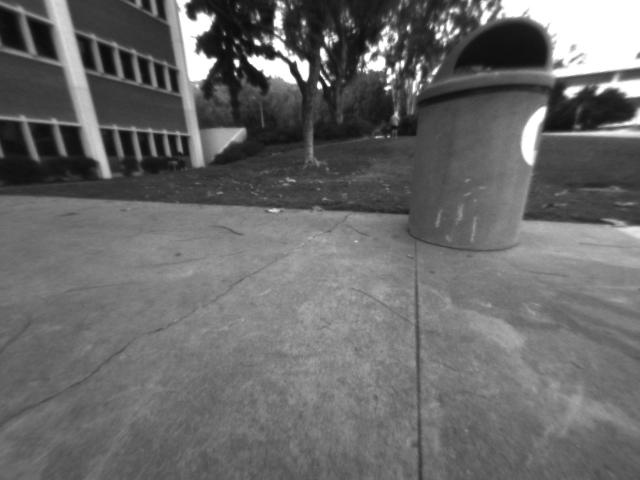trashcan: (399, 11, 576, 280)
